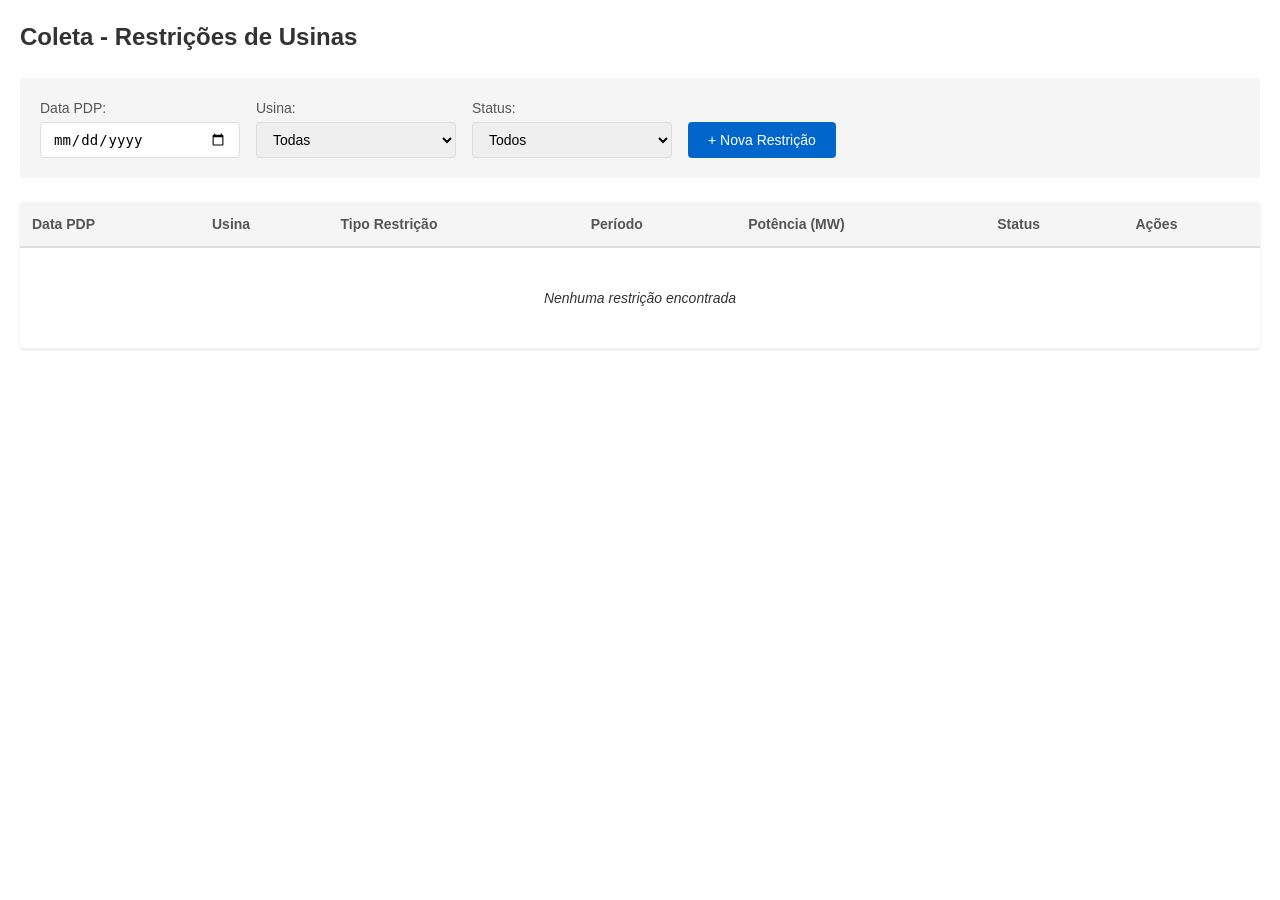
Test: PlantRestriction Component › Diálogo de Criação/Edição › deve exibir erro ao tentar salvar sem campos obrigatórios
Click the button with test id "btn-nova-restricao".
click(762, 140)  # box [688,122,836,158]
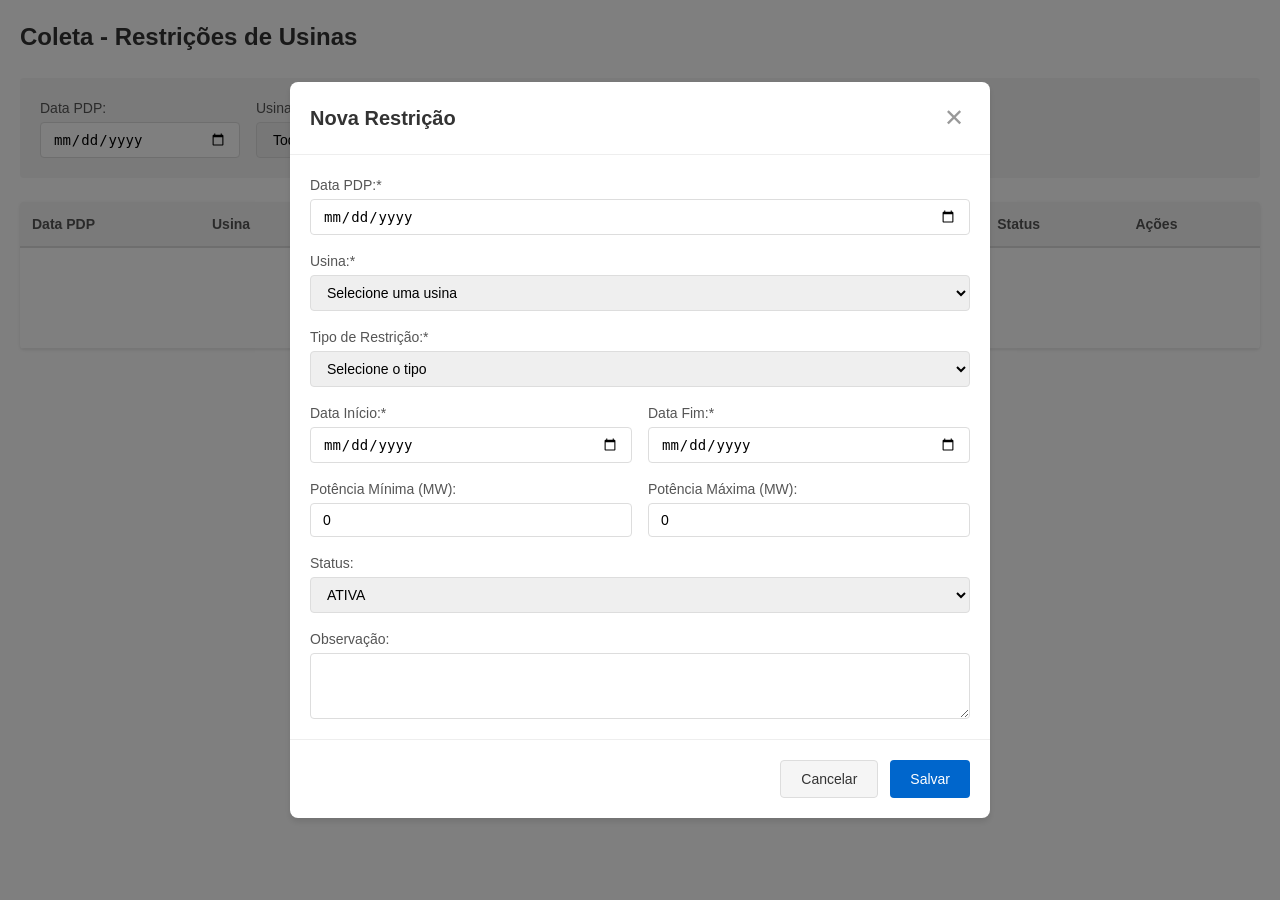
Now the element with test id "dialog-form" is shown
Click the button with test id "btn-save".
click(930, 779)  # box [890,760,970,798]
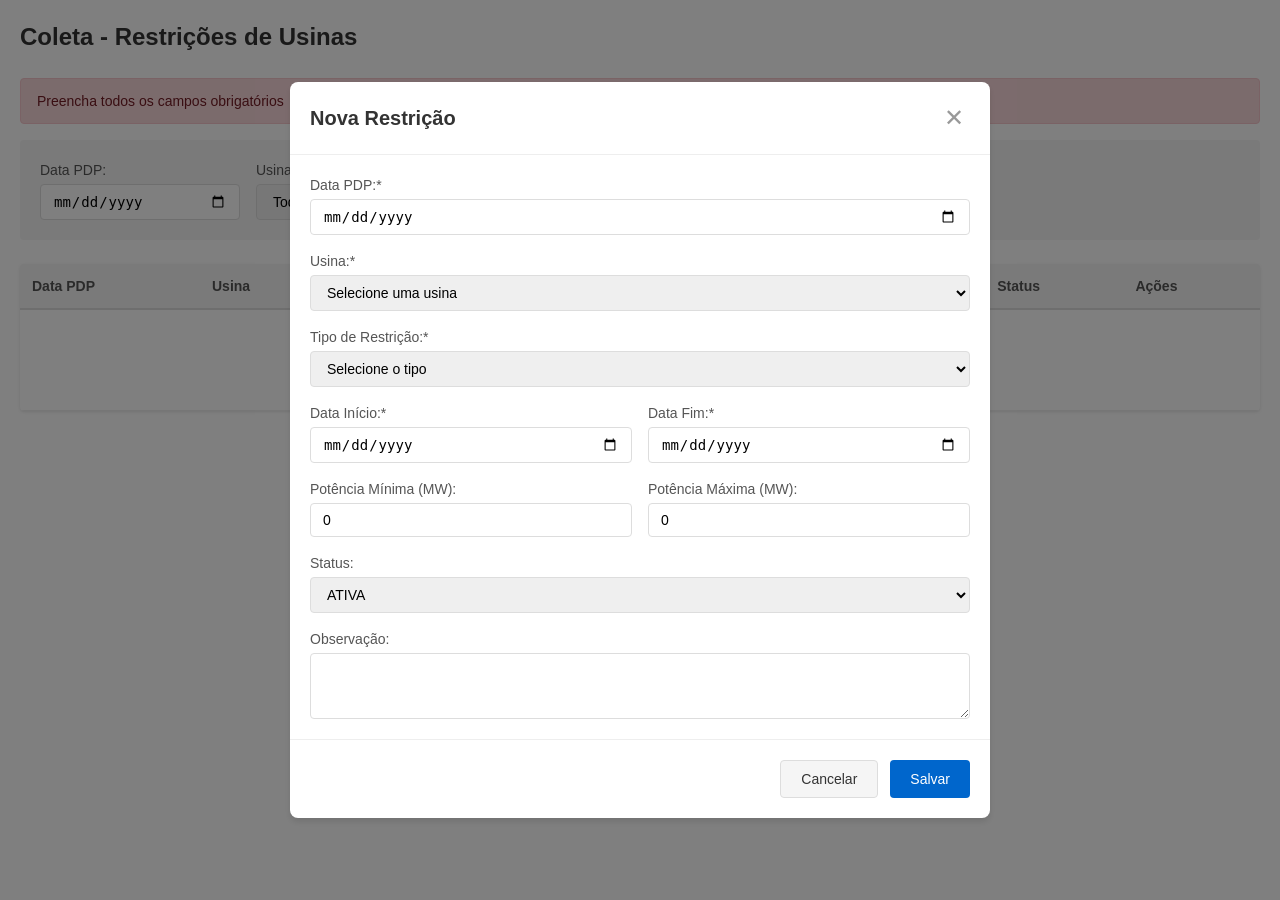
Now the text "Preencha todos os campos obrigatórios" is shown, box [20,78,1260,124]
